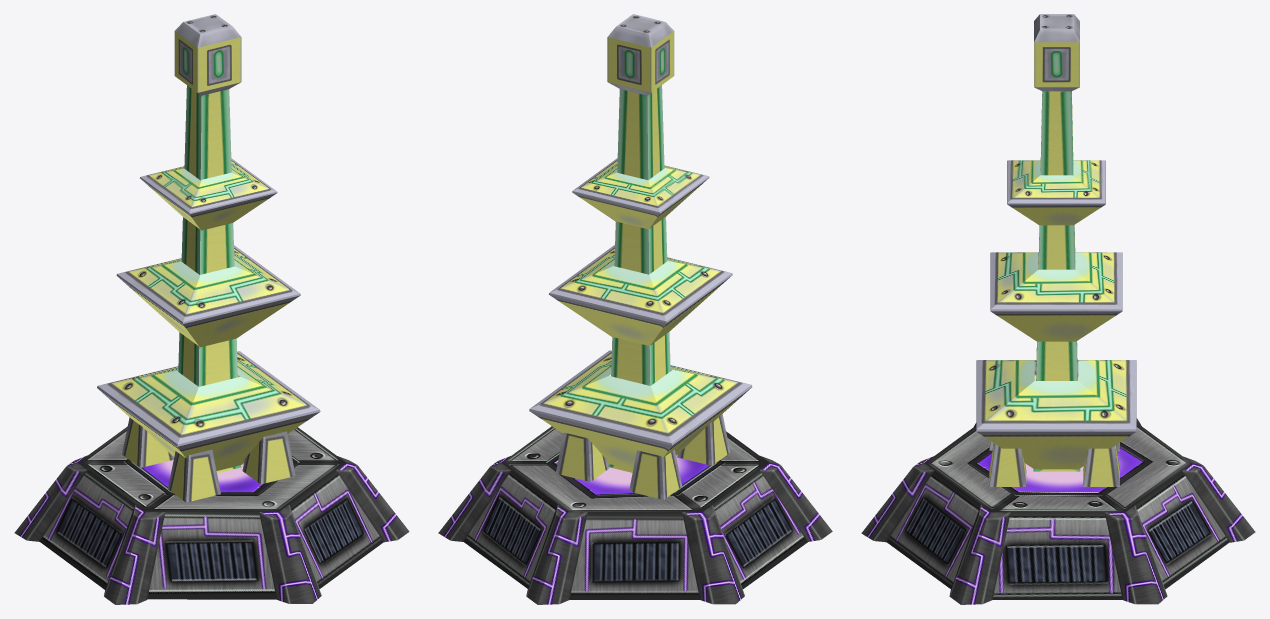
The model's file is Tower_NormalDisabler.FBX.
3 views of the same model, side by side, from view 1: azimuth 30°, elevation 25°; view 2: azimuth 150°, elevation 25°; view 3: azimuth 270°, elevation 25° (orthographic).
Visible parts, largest first — view 1: Body_NormalDisabler, Base_NormalDisabler; view 2: Body_NormalDisabler, Base_NormalDisabler; view 3: Base_NormalDisabler, Body_NormalDisabler.
Part boxes in pixels (x1=…): Body_NormalDisabler: x1=97, y1=14, x2=320, y2=502; Base_NormalDisabler: x1=14, y1=426, x2=409, y2=604; Body_NormalDisabler: x1=529, y1=14, x2=752, y2=499; Base_NormalDisabler: x1=438, y1=426, x2=832, y2=604; Base_NormalDisabler: x1=861, y1=418, x2=1255, y2=604; Body_NormalDisabler: x1=976, y1=14, x2=1136, y2=486.
Bounding box in the file's own units: 25.65 × 41.94 × 29.49.
